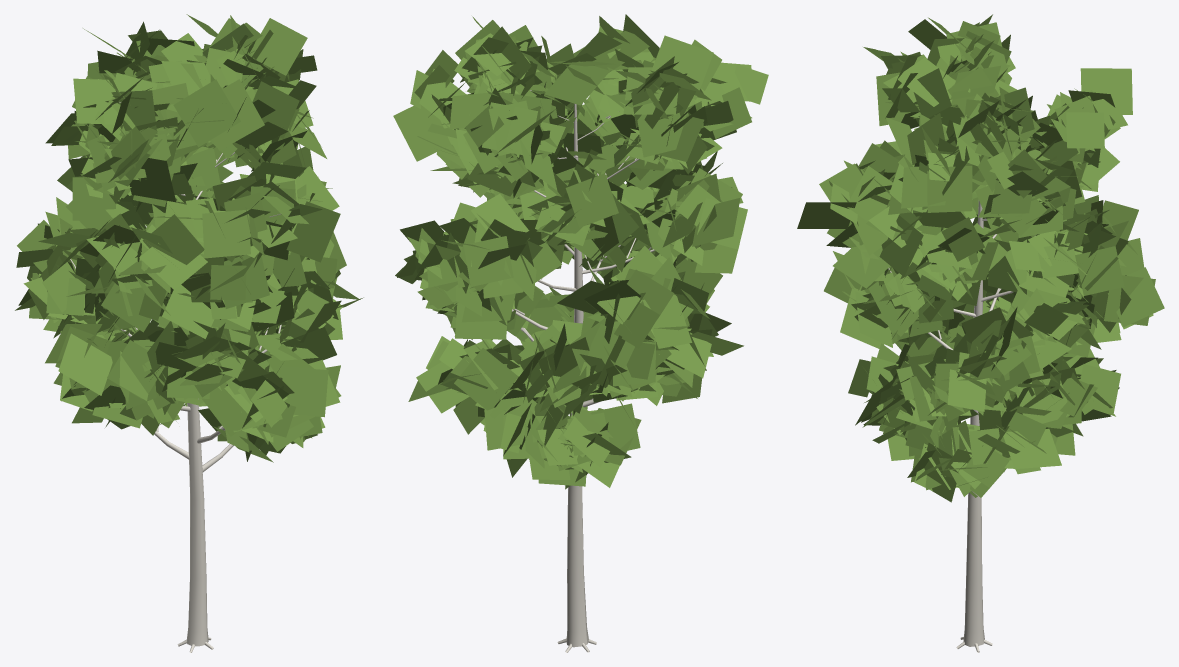
The model's file is birch-1-lod0.glb.
The picture shows the model from 3 angles, left to right: view 1: azimuth 30°, elevation 25°; view 2: azimuth 150°, elevation 25°; view 3: azimuth 270°, elevation 25°; orthographic projection. The views are drawn at different scales.
Parts seen in each view (by area): view 1: birch-1-lod0-foliage, birch-1-lod0-bark; view 2: birch-1-lod0-foliage, birch-1-lod0-bark; view 3: birch-1-lod0-foliage, birch-1-lod0-bark.
Part boxes in pixels (x1=…): birch-1-lod0-foliage: x1=15, y1=14, x2=363, y2=462; birch-1-lod0-bark: x1=70, y1=102, x2=290, y2=652; birch-1-lod0-foliage: x1=393, y1=14, x2=768, y2=489; birch-1-lod0-bark: x1=512, y1=90, x2=654, y2=652; birch-1-lod0-foliage: x1=797, y1=14, x2=1164, y2=502; birch-1-lod0-bark: x1=888, y1=200, x2=1013, y2=652.
Bounding box in the file's own units: 12.33 × 22.72 × 12.87.
